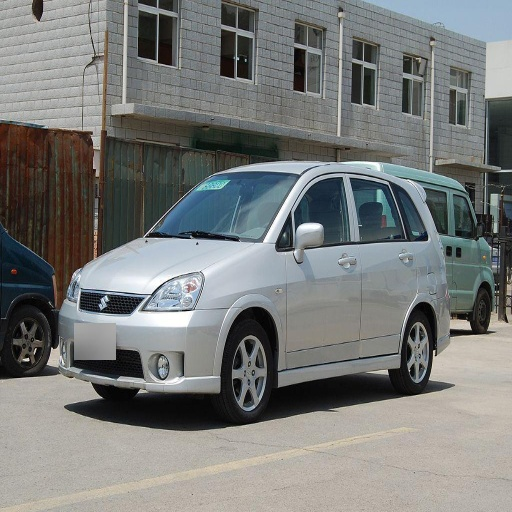front_bumper: (54, 285, 233, 389)
front_glass: (146, 172, 299, 242)
front_left_door: (283, 173, 361, 367)
trunk: (438, 240, 493, 309)
